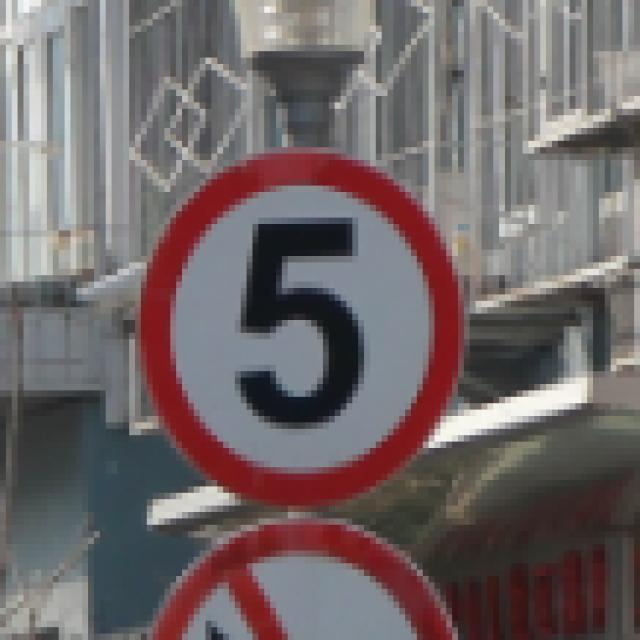Speed: (120, 135, 483, 527)
